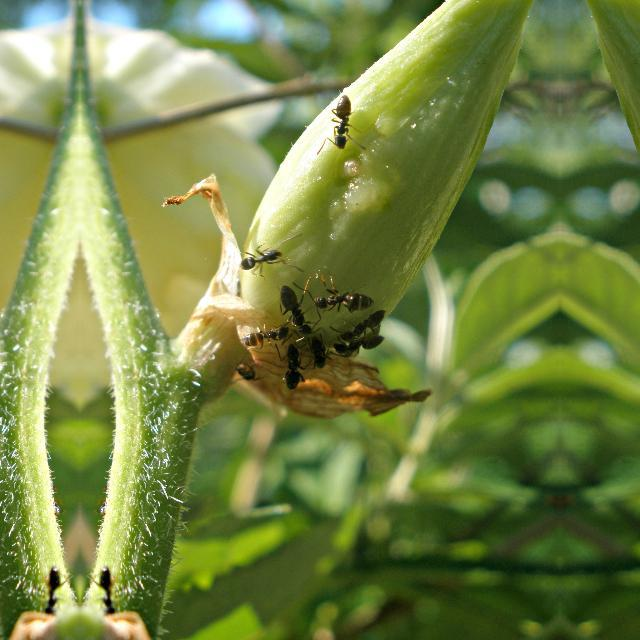Tapinoma: (324, 89, 360, 158), (276, 278, 316, 338), (311, 277, 369, 317), (234, 237, 286, 281), (334, 308, 386, 352), (238, 318, 290, 356), (92, 560, 122, 622), (38, 560, 68, 622), (278, 340, 308, 398), (308, 333, 330, 373), (233, 358, 261, 387)
